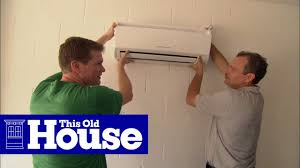ac: (111, 20, 213, 71)
